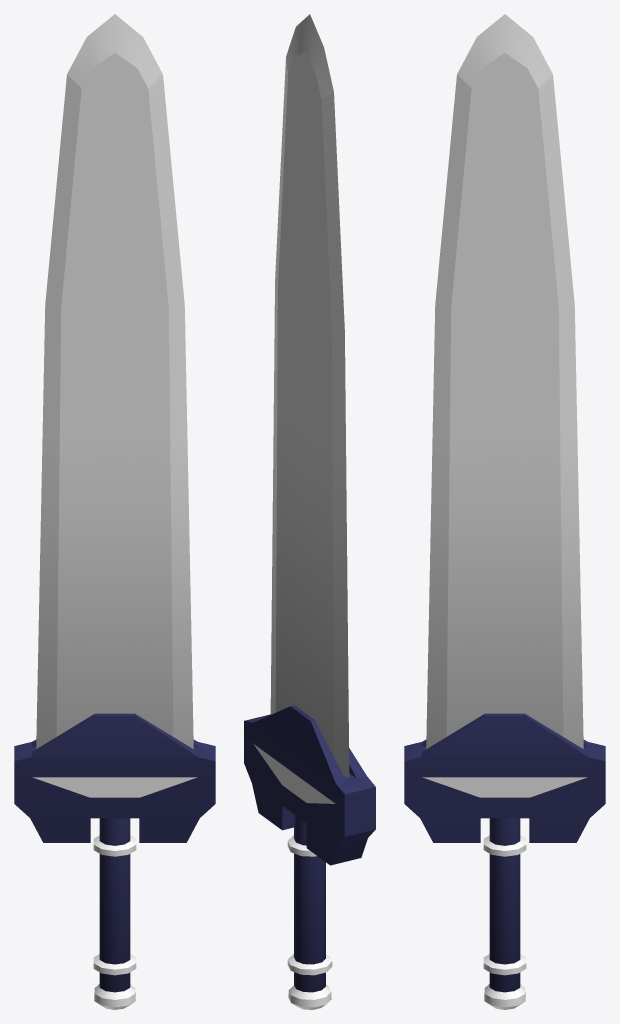
File: Weapon_simple_sword.fbx
3 renders of one model, left to right at view 1: azimuth 90°, elevation 25°; view 2: azimuth 210°, elevation 25°; view 3: azimuth 270°, elevation 25°, orthographic.
Visible parts, largest first — view 1: W_LB_1; view 2: W_LB_1; view 3: W_LB_1.
Boxes of the visible parts, x1,y1,x2,y2 form: W_LB_1: [14, 14, 215, 1009]; W_LB_1: [244, 14, 375, 1009]; W_LB_1: [404, 14, 605, 1009].
Bounding box in the file's own units: 3.98 × 97.23 × 17.93.
